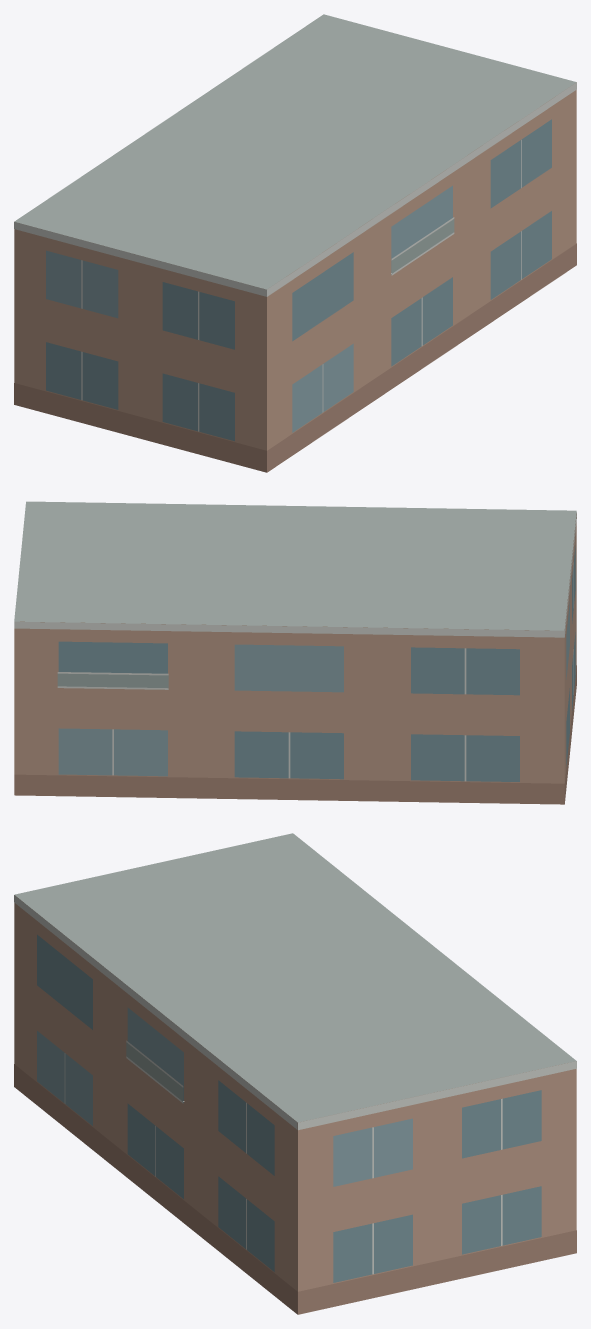
Rendered from survey-upis-32839354.glb.
3 views of the same model, one above another, from view 1: azimuth 30°, elevation 25°; view 2: azimuth 150°, elevation 25°; view 3: azimuth 270°, elevation 25° (orthographic). The views are drawn at different scales.
Visible parts, largest first — view 1: survey-upis-32839354.tmp; view 2: survey-upis-32839354.tmp; view 3: survey-upis-32839354.tmp.
Part boxes in pixels (x1=…): survey-upis-32839354.tmp: x1=14, y1=14, x2=576, y2=472; survey-upis-32839354.tmp: x1=14, y1=501, x2=576, y2=804; survey-upis-32839354.tmp: x1=14, y1=833, x2=576, y2=1314.
Bounding box in the file's own units: 19.72 × 6.1 × 16.2.
